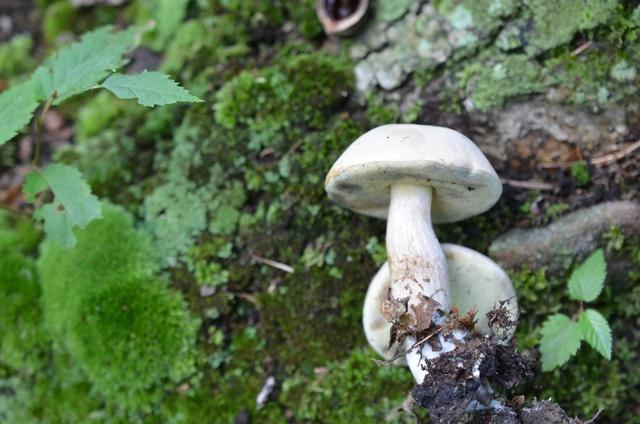Edible Mushroom: (323, 121, 505, 384), (361, 241, 519, 382)
